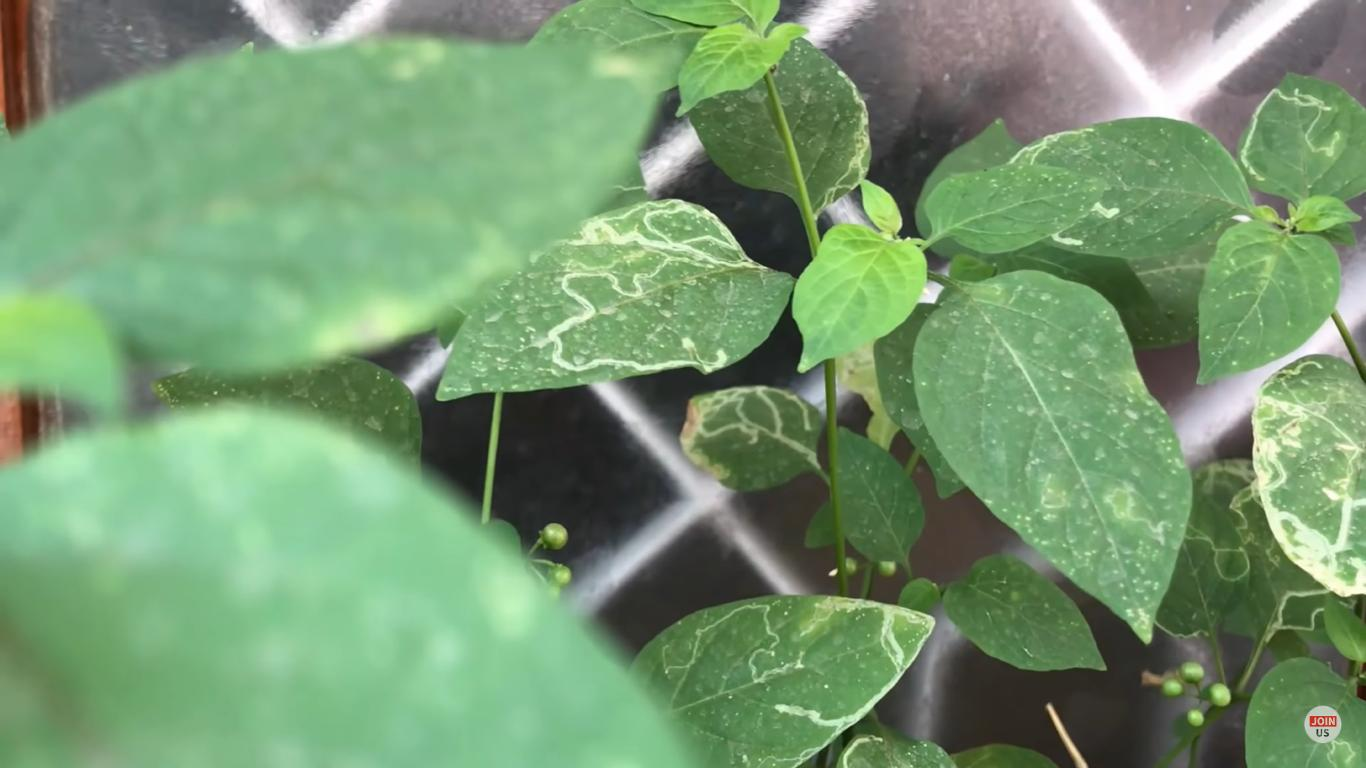Healthy: (792, 218, 930, 370)
Leaf_Miner: (436, 196, 796, 400), (631, 591, 937, 768), (1006, 113, 1253, 258), (687, 38, 873, 219), (1192, 458, 1358, 637), (1251, 353, 1366, 600), (1239, 69, 1366, 202), (1157, 461, 1251, 639), (680, 382, 826, 496), (831, 727, 955, 768)
